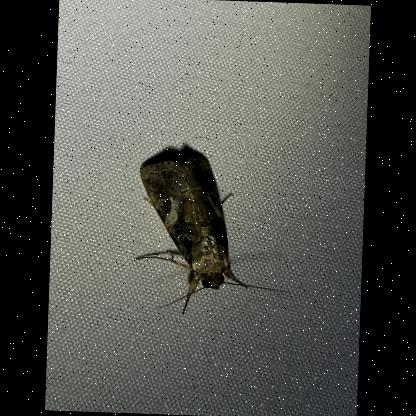Fall Armyworm Moth: (128, 152, 260, 319)
